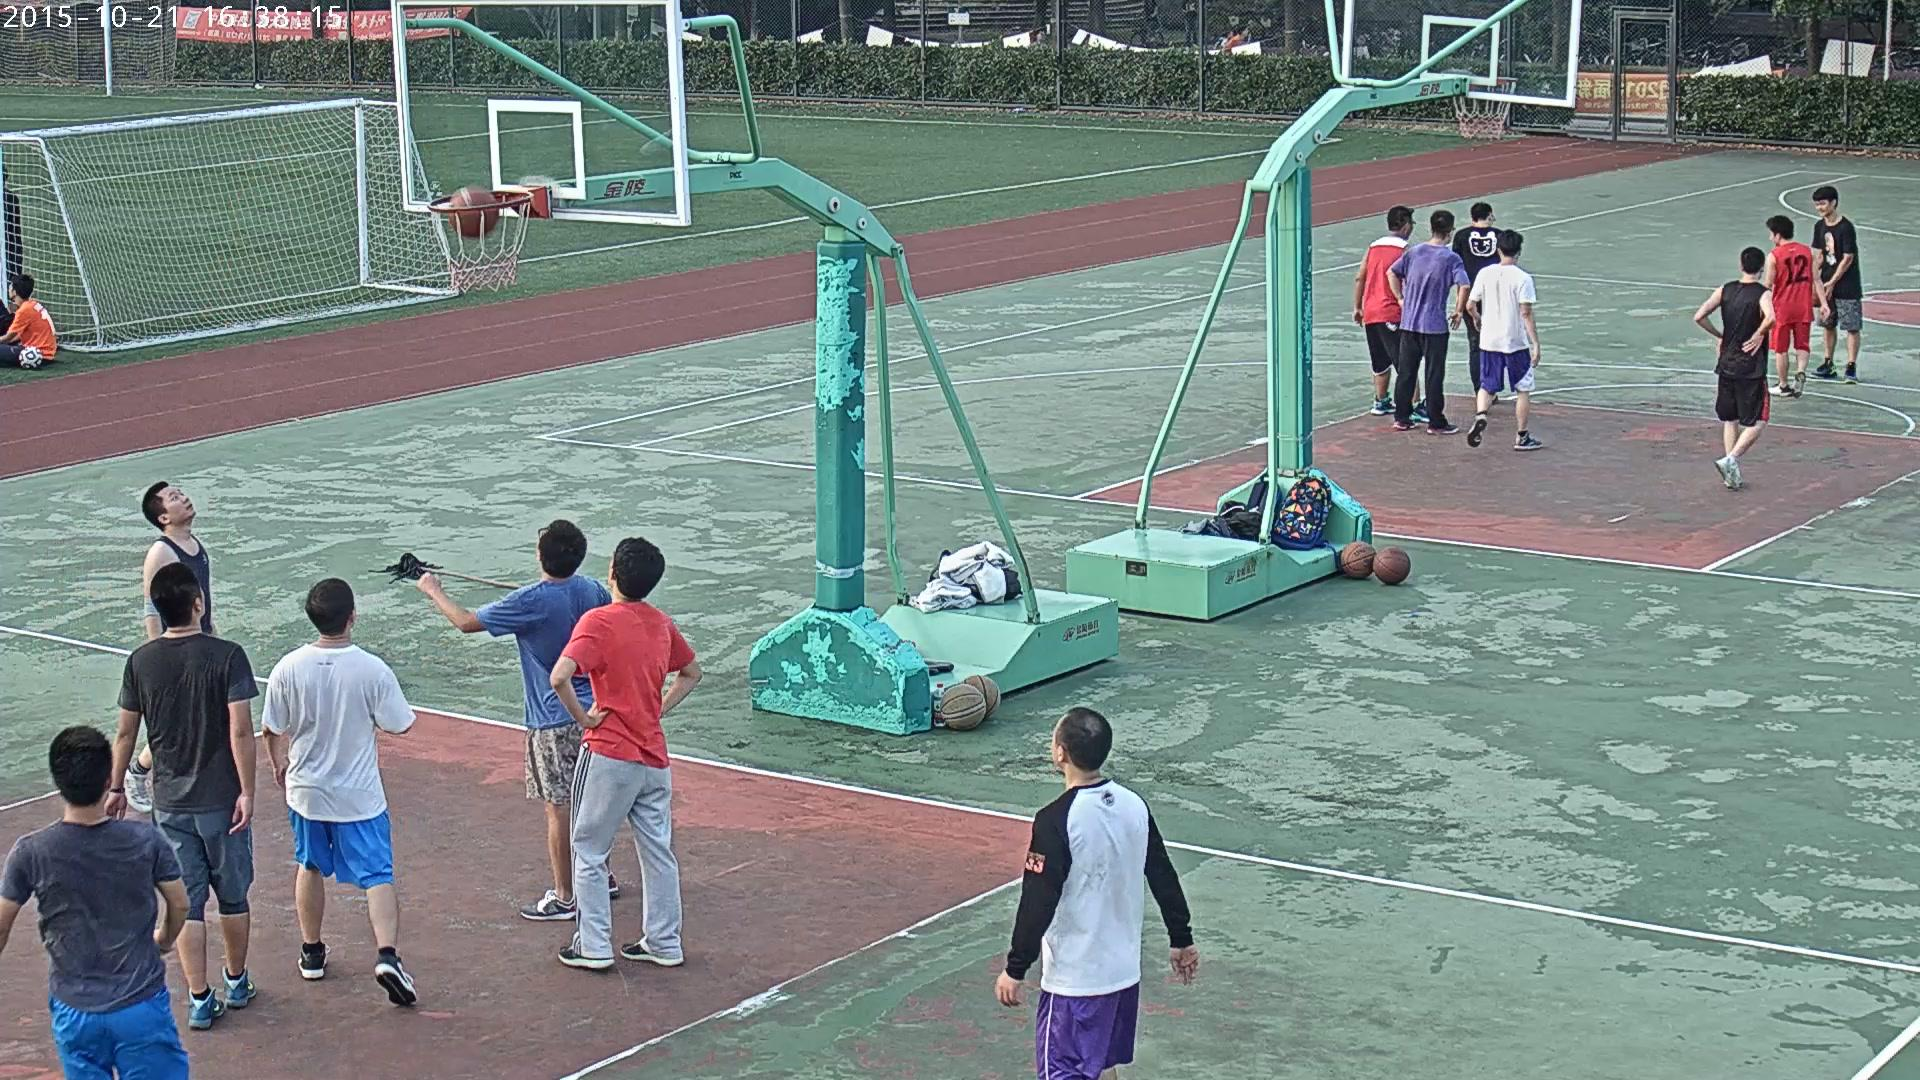face: (155, 487, 198, 515), (1814, 198, 1832, 217), (1050, 723, 1056, 768), (199, 584, 205, 614), (7, 282, 14, 300), (1408, 216, 1414, 237), (608, 559, 612, 585), (1769, 229, 1775, 243), (1241, 28, 1247, 35)
